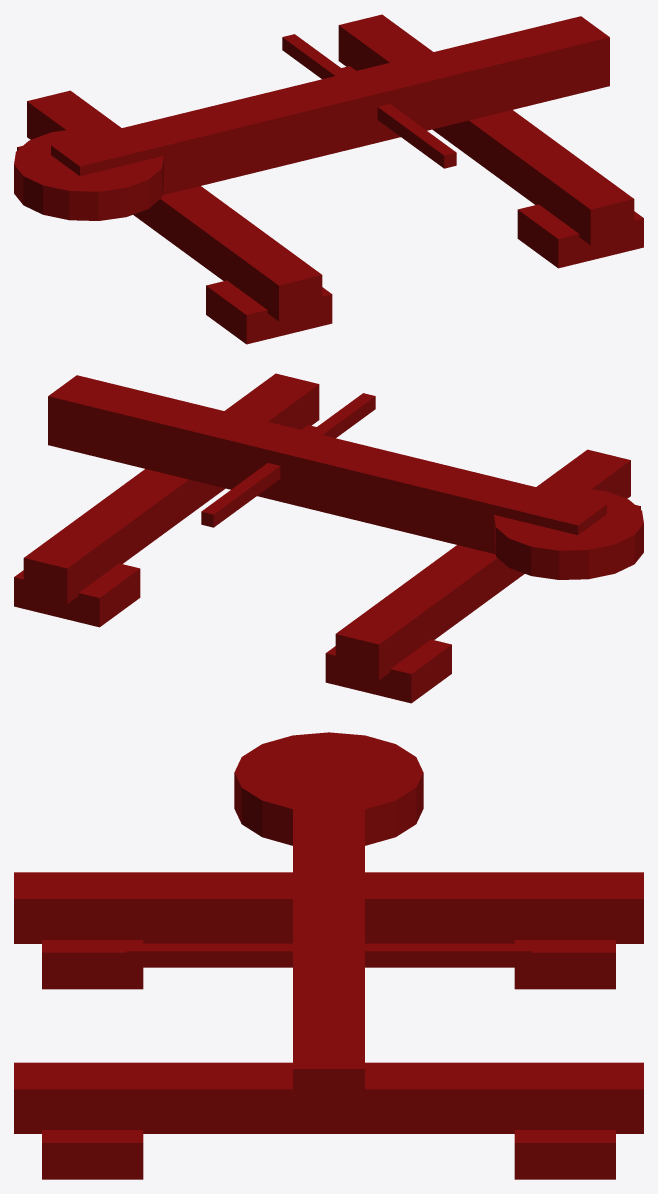
File: boat_lift_rotating_head.dae
The picture shows the model from 3 angles, top to bottom: view 1: azimuth 30°, elevation 25°; view 2: azimuth 150°, elevation 25°; view 3: azimuth 270°, elevation 25°; orthographic projection. The views are drawn at different scales.
Visible parts, largest first — view 1: HEAD_ARM, CRADLE_2.55, CRADLE_0.55, ROTATION_PLATE, PAD_A_0.55, PAD_A_2.55, SAFETY_BAR; view 2: HEAD_ARM, CRADLE_2.55, CRADLE_0.55, ROTATION_PLATE, PAD_B_0.55, PAD_B_2.55, SAFETY_BAR; view 3: CRADLE_2.55, CRADLE_0.55, HEAD_ARM, ROTATION_PLATE, SAFETY_BAR, PAD_A_2.55, PAD_B_2.55, PAD_A_0.55, PAD_B_0.55.
Part boxes in pixels (left/top/right/bottom): HEAD_ARM: left=51, top=16, right=609, bottom=195; CRADLE_2.55: left=338, top=14, right=634, bottom=245; CRADLE_0.55: left=27, top=90, right=322, bottom=321; ROTATION_PLATE: left=14, top=128, right=163, bottom=220; PAD_A_0.55: left=206, top=280, right=332, bottom=344; PAD_A_2.55: left=517, top=204, right=643, bottom=268; SAFETY_BAR: left=282, top=34, right=456, bottom=168; HEAD_ARM: left=48, top=375, right=606, bottom=554; CRADLE_2.55: left=23, top=373, right=319, bottom=604; CRADLE_0.55: left=335, top=449, right=630, bottom=680; ROTATION_PLATE: left=494, top=487, right=643, bottom=579; PAD_B_0.55: left=325, top=639, right=451, bottom=703; PAD_B_2.55: left=14, top=563, right=140, bottom=627; SAFETY_BAR: left=201, top=393, right=375, bottom=527; CRADLE_2.55: left=14, top=1062, right=643, bottom=1133; CRADLE_0.55: left=14, top=872, right=643, bottom=943; HEAD_ARM: left=293, top=745, right=364, bottom=1130; ROTATION_PLATE: left=234, top=732, right=423, bottom=845; SAFETY_BAR: left=126, top=943, right=531, bottom=967; PAD_A_2.55: left=42, top=1130, right=143, bottom=1179; PAD_B_2.55: left=514, top=1130, right=615, bottom=1179; PAD_A_0.55: left=42, top=940, right=143, bottom=989; PAD_B_0.55: left=514, top=940, right=615, bottom=989.
Bounding box in the file's own units: 3.67 × 2.8 × 0.74.
